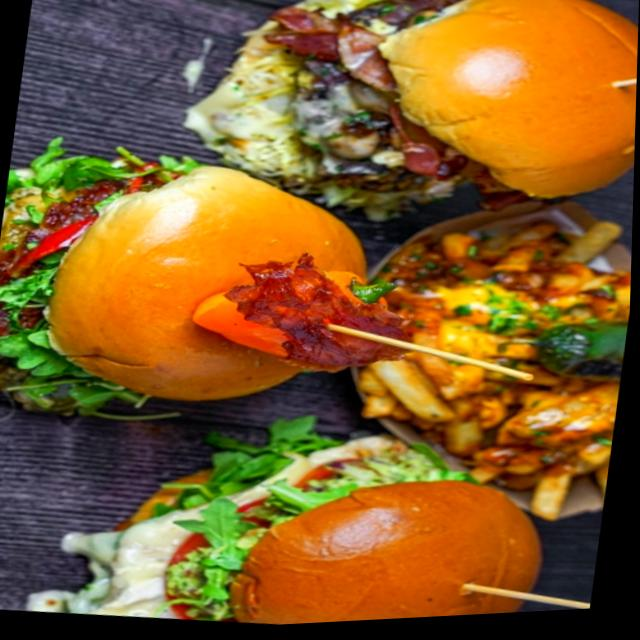burger: (0, 131, 441, 437), (218, 0, 640, 241), (104, 414, 563, 635)
